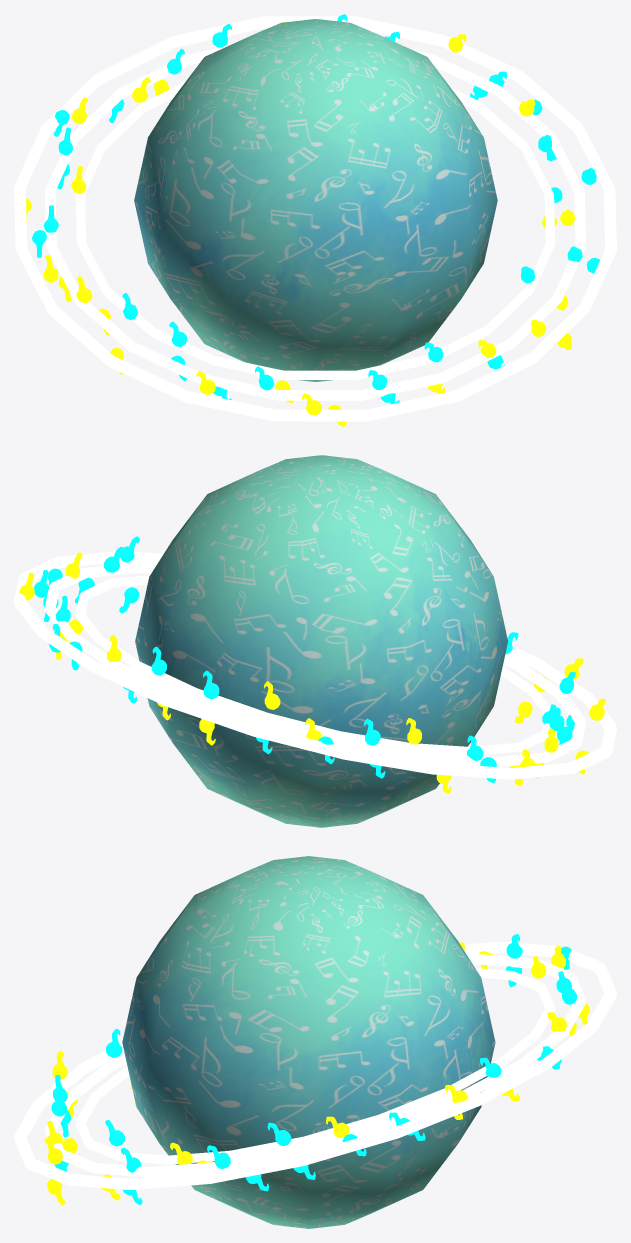
File: Marie_Miku_Planet2GLB2.glb
3 views of the same model, one above another, from view 1: azimuth 30°, elevation 25°; view 2: azimuth 150°, elevation 25°; view 3: azimuth 270°, elevation 25° (orthographic). The views are drawn at different scales.
Visible parts, largest first — view 1: Sphere, BezierCircle.002, BezierCircle.001, BezierCircle, SourceEnergieNoteMusic.003, SourceEnergieNoteMusic.001; view 2: Sphere, BezierCircle.002, BezierCircle.001, SourceEnergieNoteMusic.003, BezierCircle, SourceEnergieNoteMusic.001; view 3: Sphere, BezierCircle.002, BezierCircle.001, BezierCircle, SourceEnergieNoteMusic.003, SourceEnergieNoteMusic.001.
Part boxes in pixels (x1,y1,x2,y2): Sphere: (134, 19, 497, 381); BezierCircle.002: (14, 16, 616, 421); BezierCircle.001: (44, 46, 586, 400); BezierCircle: (75, 81, 555, 379); SourceEnergieNoteMusic.003: (43, 14, 596, 415); SourceEnergieNoteMusic.001: (26, 79, 600, 426); Sphere: (135, 455, 507, 827); BezierCircle.002: (14, 551, 616, 779); BezierCircle.001: (45, 562, 585, 767); SourceEnergieNoteMusic.003: (19, 536, 605, 767); BezierCircle: (75, 575, 550, 755); SourceEnergieNoteMusic.001: (43, 568, 588, 793); Sphere: (122, 856, 495, 1228); BezierCircle.002: (14, 941, 616, 1190); BezierCircle.001: (45, 954, 585, 1177); BezierCircle: (75, 968, 555, 1164); SourceEnergieNoteMusic.003: (44, 934, 576, 1172); SourceEnergieNoteMusic.001: (47, 946, 589, 1205).
Bounding box in the file's own units: 29.12 × 17.54 × 28.33.
1 material, 1 textured.
